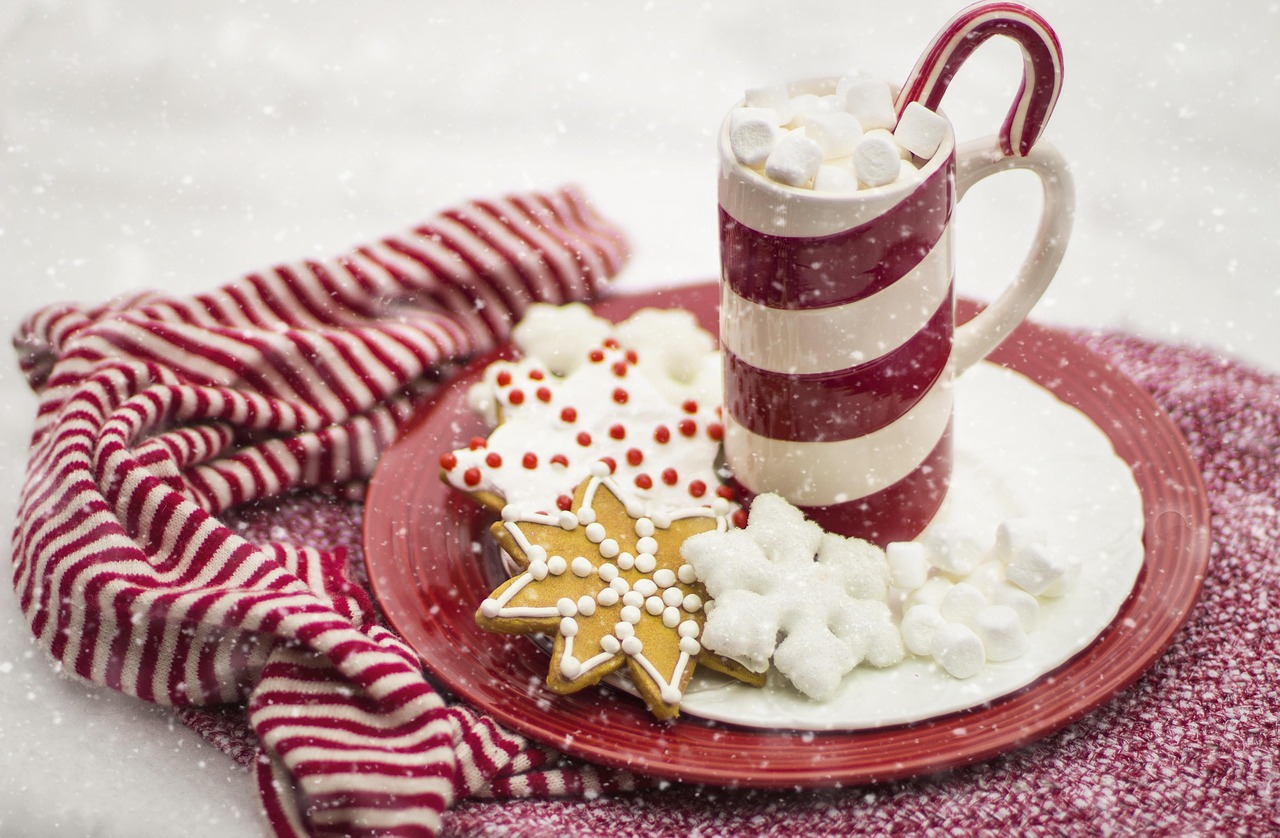mug: (692, 1, 1126, 538)
